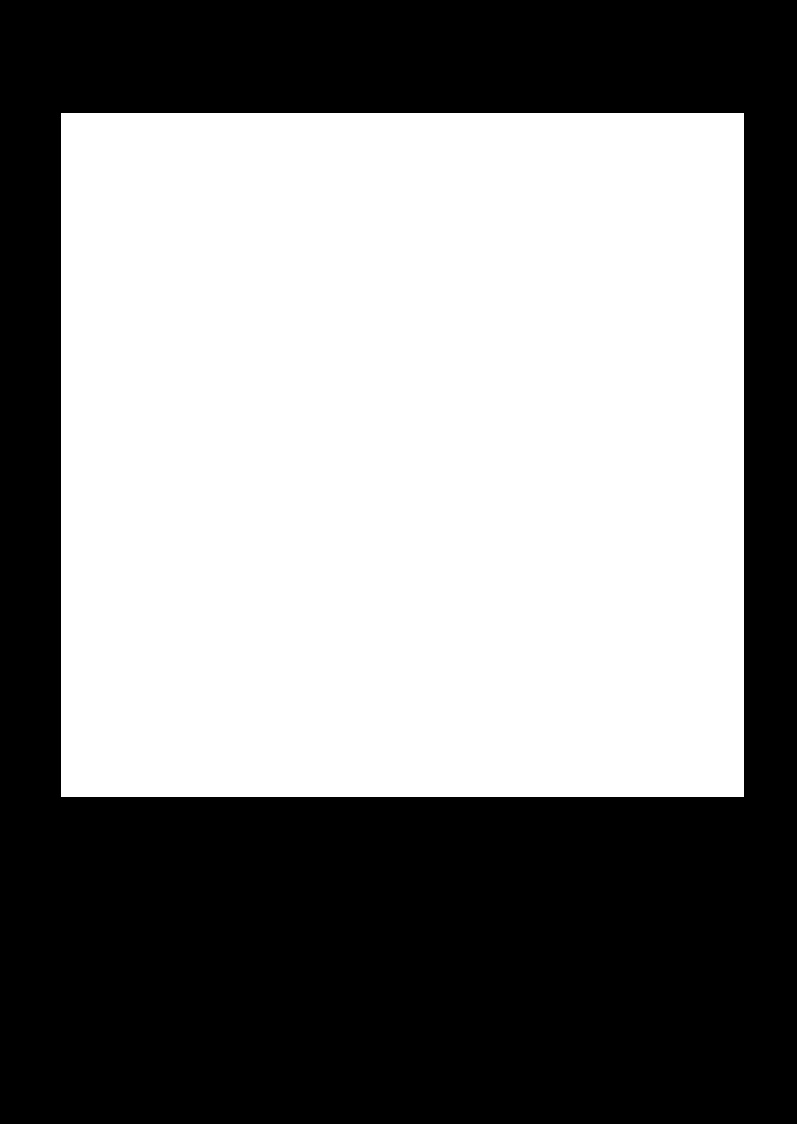table: (61, 113, 743, 796)
